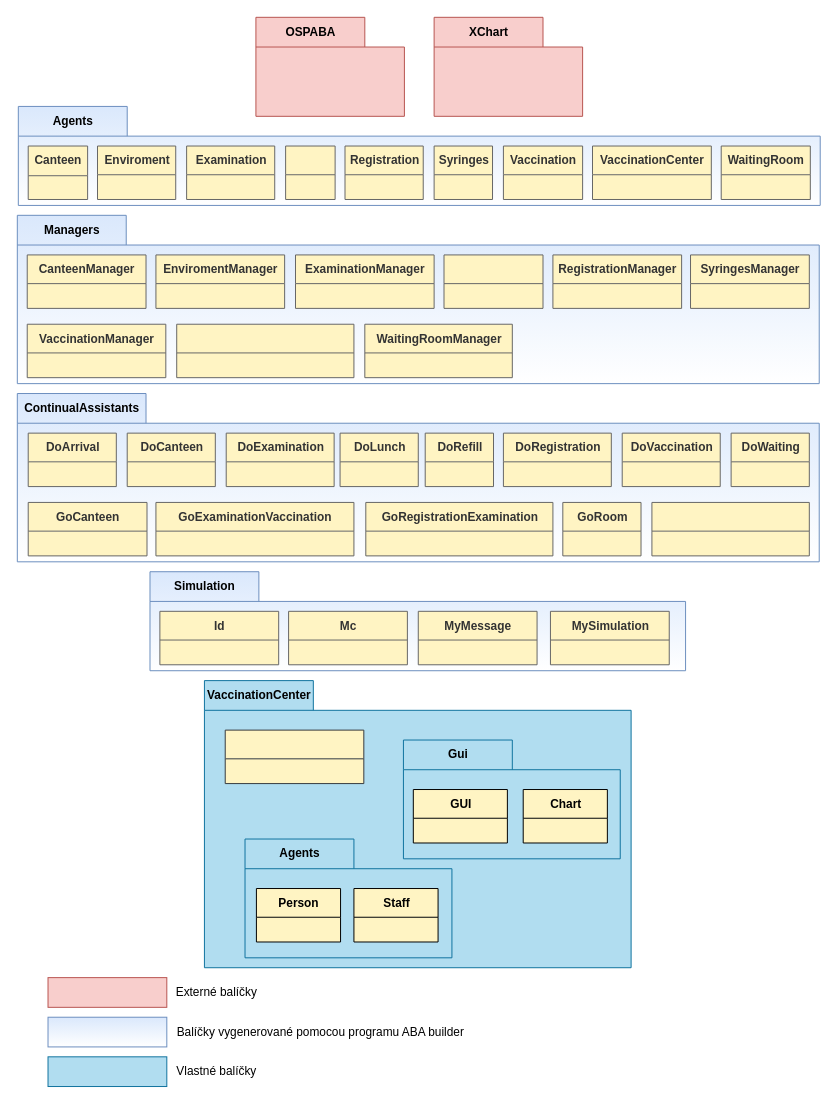
The diagram is 838 pixels wide and 1104 high, and some of its shapes have lost their labels. Here are the shapes that lost their labels. From the top down, the centre of each, then its label:
At (x=310, y=172): "Model".
At (x=493, y=281): "ModelManager".
At (x=265, y=350): "VaccinationCenterManager".
At (x=730, y=528): "GoVaccinationWaiting".
At (x=294, y=756): "main".
